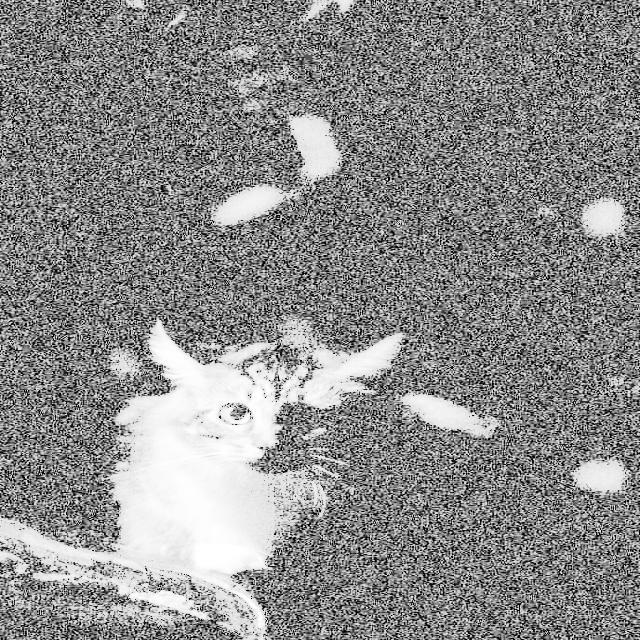Cat: (94, 254, 444, 632)
